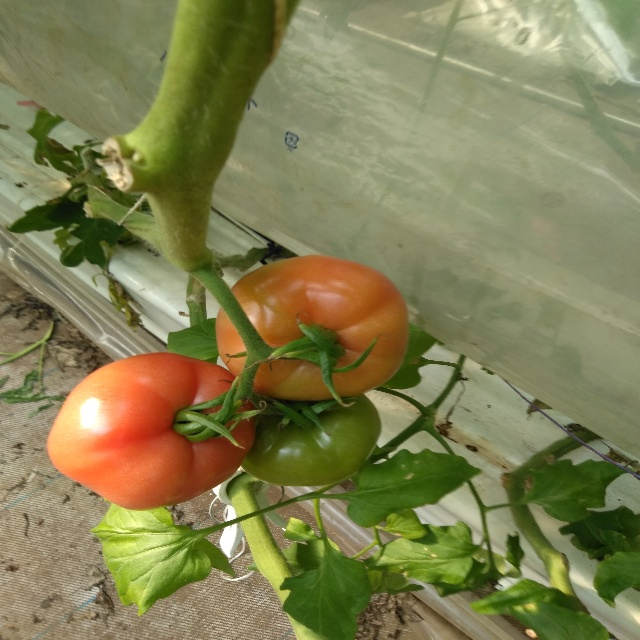b_green: (240, 394, 383, 486)
b_half_ripened: (46, 352, 255, 511), (215, 254, 408, 402)
